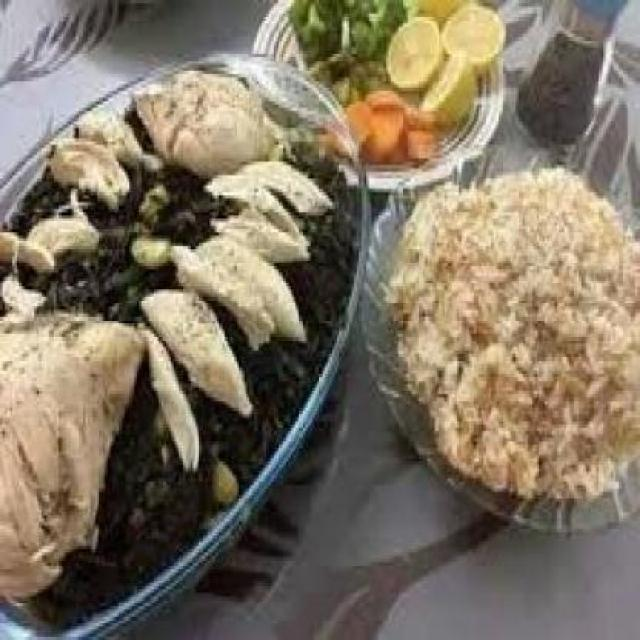molokhia: (2, 84, 356, 630)
